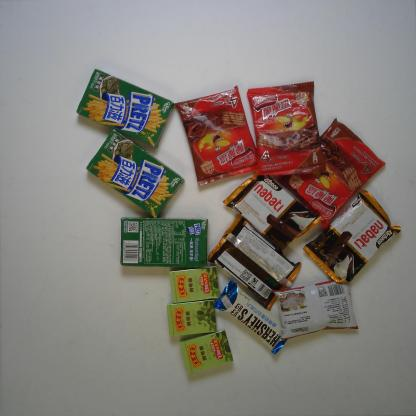Candy: (179, 330, 234, 375), (168, 265, 220, 303), (167, 300, 218, 336)
Chocolate: (213, 279, 288, 355)
Dessert: (278, 117, 385, 230), (302, 188, 402, 284), (207, 214, 302, 312), (84, 130, 184, 218), (222, 169, 324, 254), (174, 85, 257, 186), (74, 68, 174, 148), (246, 81, 327, 176), (119, 217, 208, 269)
Seasoner: (272, 280, 359, 341)
